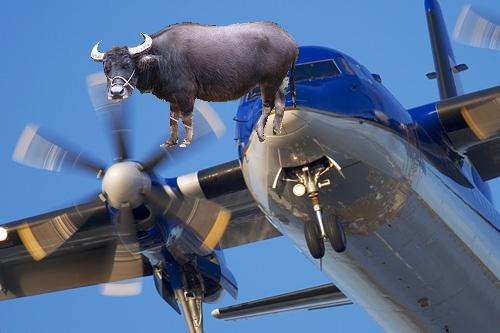tampered: (92, 22, 299, 147)
